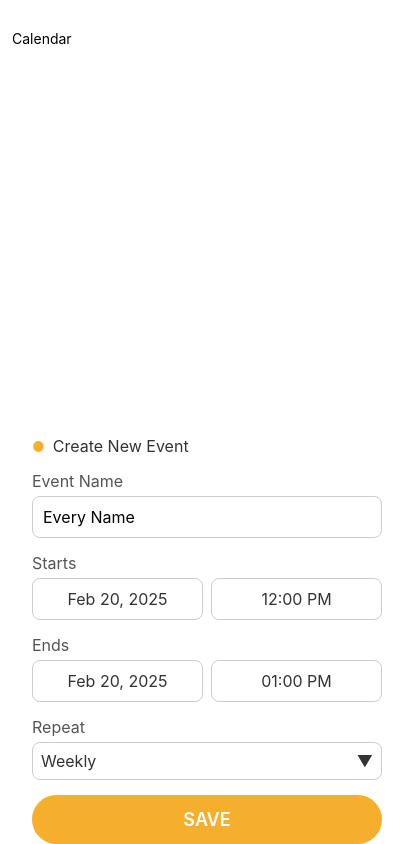
Test case: MainScreen › opens the event form and saves the event
The image size is (402, 844).
In the field with placeholder "Every Name": (207,517) left=32, top=496, right=382, bottom=538, type "New Event"
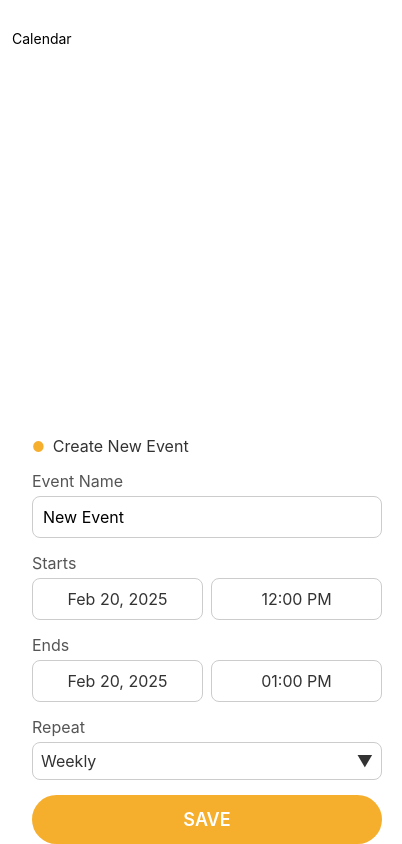
Click the text "SAVE": (207,820) left=183, top=809, right=231, bottom=830
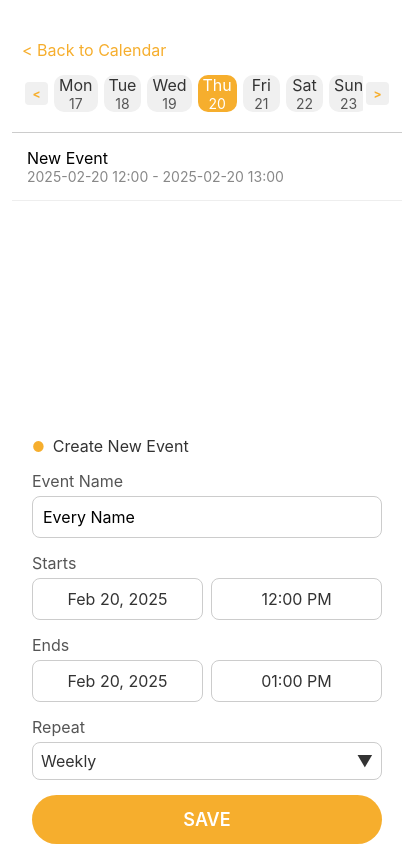
Expected: the text "New Event" is shown, left=27, top=148, right=108, bottom=168
